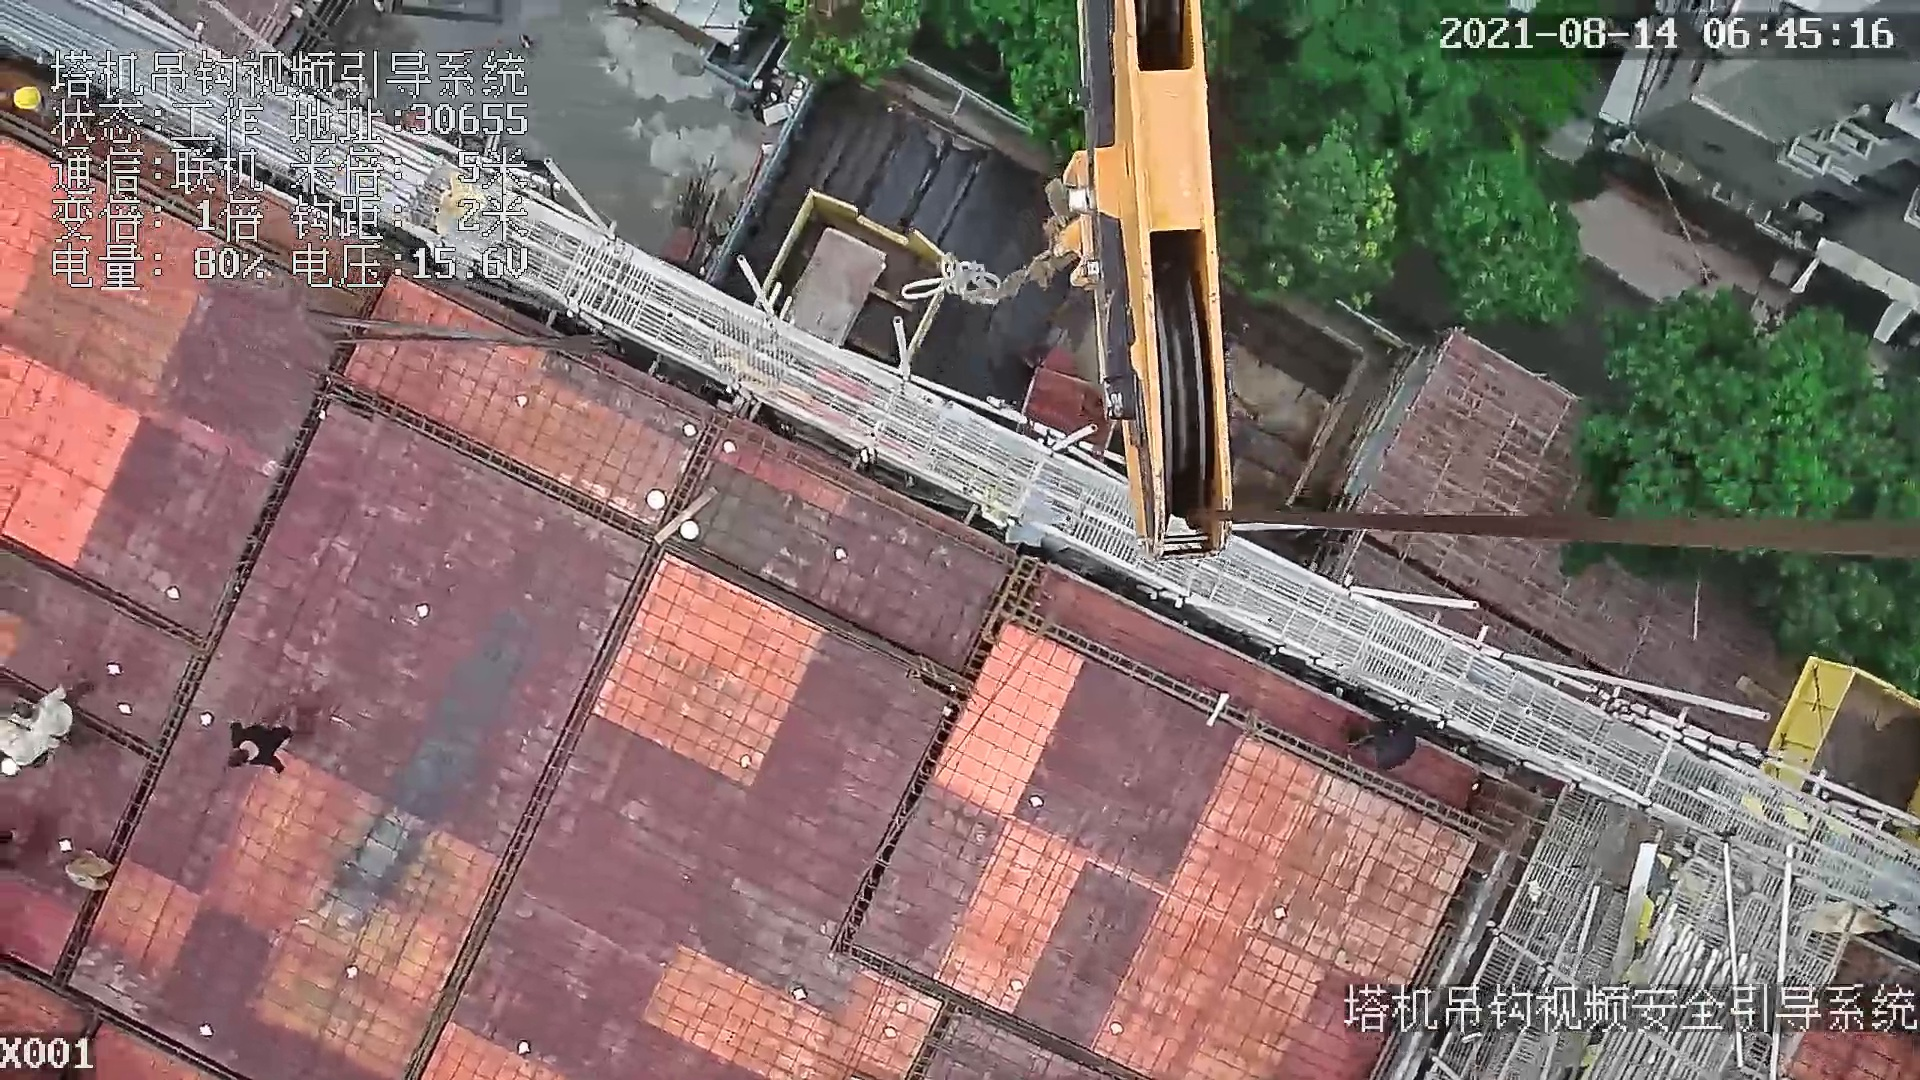helmet: (12, 86, 44, 105)
hook: (1010, 1, 1233, 558)
hopper: (1025, 360, 1111, 456)
person: (7, 83, 95, 149), (1351, 710, 1424, 781), (223, 719, 299, 778), (14, 684, 75, 742)
